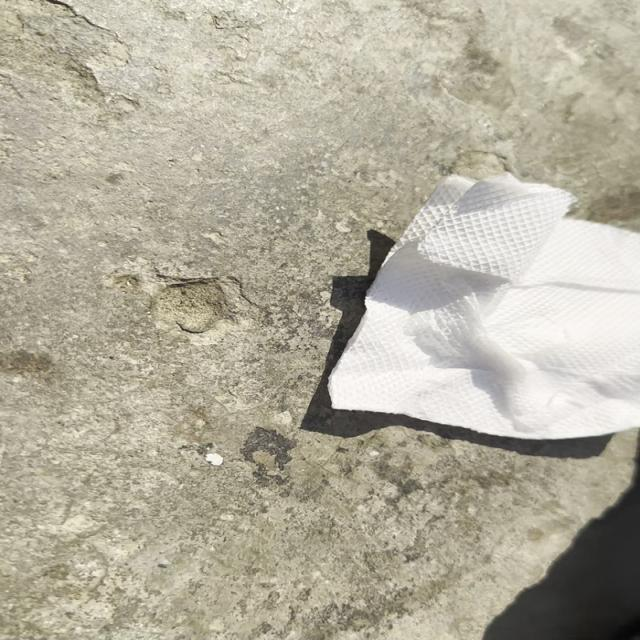tissue: (304, 170, 640, 442)
